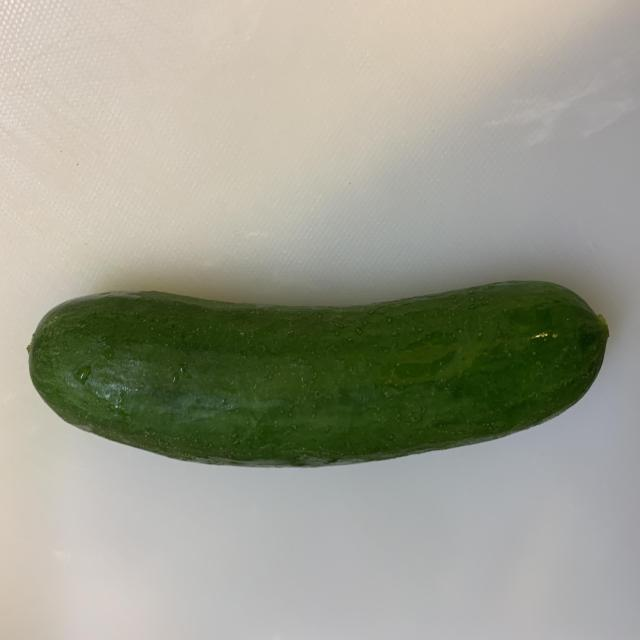cucumber: (27, 280, 607, 468)
